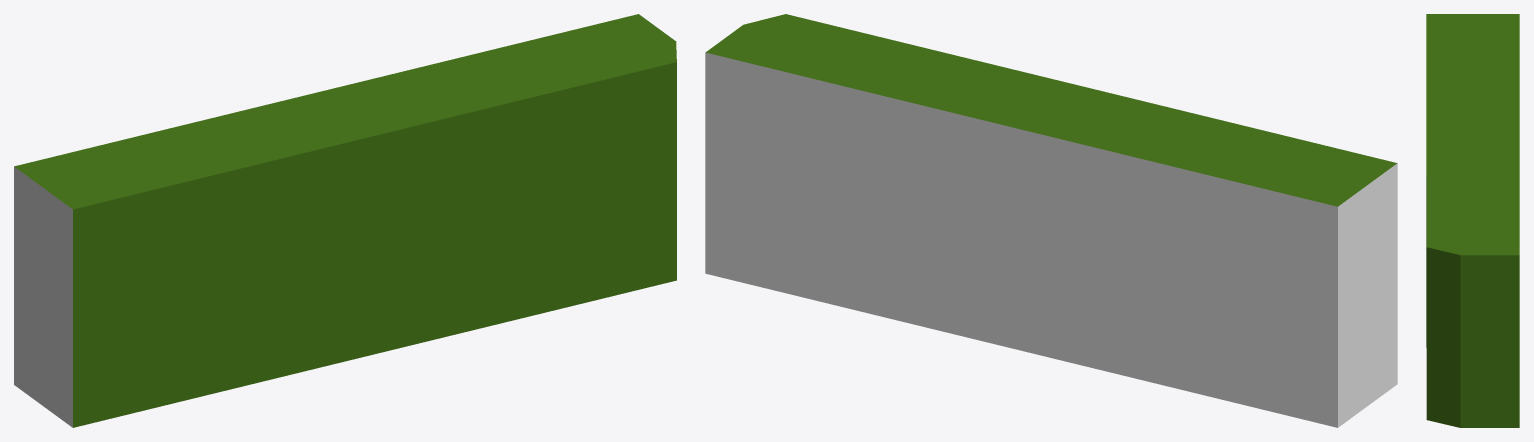
Rendered from A7 NW Mountain Cave.obj.
The picture shows the model from 3 angles, left to right: view 1: azimuth 30°, elevation 25°; view 2: azimuth 150°, elevation 25°; view 3: azimuth 270°, elevation 25°; orthographic projection. The views are drawn at different scales.
Visible parts, largest first — view 1: Mesh1 A7_NW_Mountain1 Group1 Model, Mesh3 A7FakeGreenWall1 Group1 Model; view 2: Mesh1 A7_NW_Mountain1 Group1 Model; view 3: Mesh1 A7_NW_Mountain1 Group1 Model.
Boxes of the visible parts, <box> form: Mesh1 A7_NW_Mountain1 Group1 Model: <box>14,14,676,427</box>; Mesh3 A7FakeGreenWall1 Group1 Model: <box>396,200,448,348</box>; Mesh1 A7_NW_Mountain1 Group1 Model: <box>705,14,1397,427</box>; Mesh1 A7_NW_Mountain1 Group1 Model: <box>1426,14,1519,427</box>.
Bounding box in the file's own units: 11.97 × 4 × 1.95.
